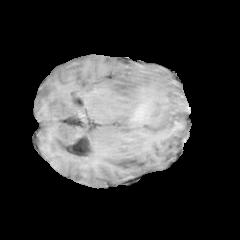glioma: (107, 66, 184, 131)
